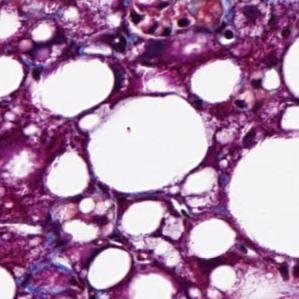inflammation: (124, 5, 196, 41), (232, 74, 267, 111)
